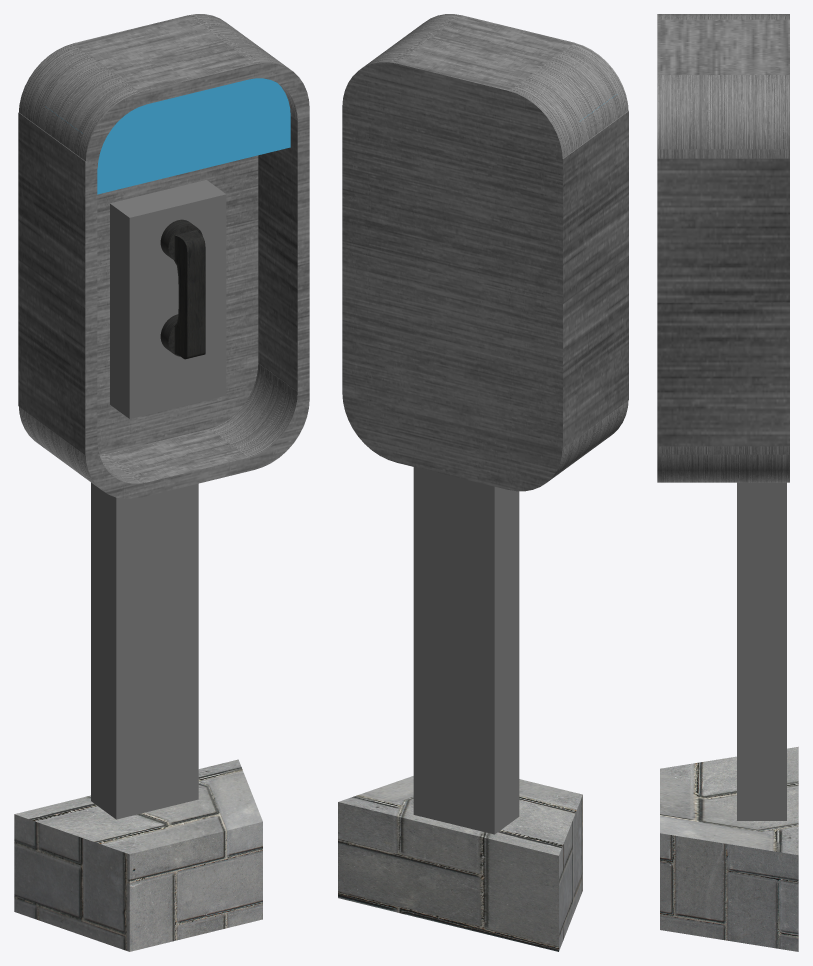
Rendered from phonebooth.fbx.
3 views of the same model, side by side, from view 1: azimuth 30°, elevation 25°; view 2: azimuth 150°, elevation 25°; view 3: azimuth 270°, elevation 25° (orthographic).
Visible parts, largest first — view 1: polySurface6, polySurface3, polySurface5, polySurface4, polySurface2, polySurface1; view 2: polySurface6, polySurface3, polySurface5; view 3: polySurface6, polySurface5, polySurface3.
Part boxes in pixels (bbox=[...]): polySurface6: bbox=[18, 14, 309, 498]; polySurface3: bbox=[91, 482, 198, 819]; polySurface5: bbox=[14, 759, 262, 951]; polySurface4: bbox=[110, 180, 226, 418]; polySurface2: bbox=[45, 78, 290, 194]; polySurface1: bbox=[160, 219, 205, 359]; polySurface6: bbox=[342, 14, 628, 491]; polySurface3: bbox=[413, 467, 519, 834]; polySurface5: bbox=[338, 776, 582, 951]; polySurface6: bbox=[657, 14, 789, 482]; polySurface5: bbox=[660, 746, 798, 951]; polySurface3: bbox=[737, 482, 786, 820].
Size of the model in its own units: 1 by 3.66 by 0.5499.
Materials: 5 (4 with a texture image).
